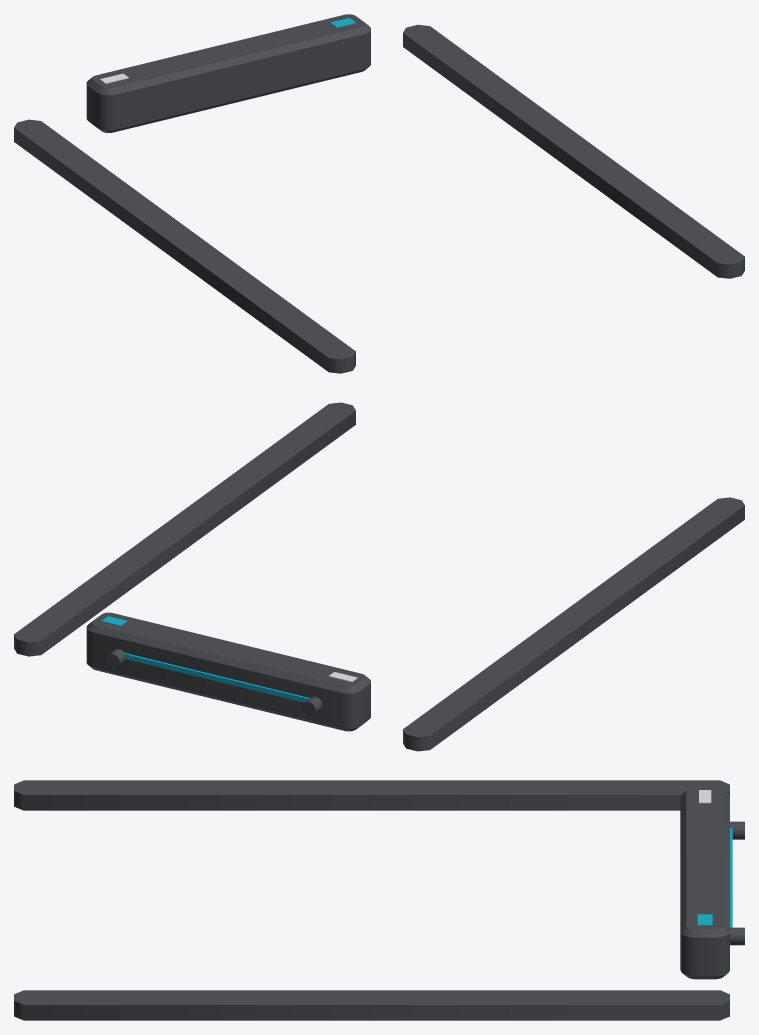
Rendered from c1_mount.obj.
3 renders of one model, top to bottom at view 1: azimuth 30°, elevation 25°; view 2: azimuth 150°, elevation 25°; view 3: azimuth 270°, elevation 25°, orthographic. The views are drawn at different scales.
Visible parts, largest first — view 1: c1_mount; view 2: c1_mount; view 3: c1_mount.
Boxes of the visible parts, x1,y1,x2,y2 form: c1_mount: (14, 14, 744, 373); c1_mount: (14, 402, 744, 751); c1_mount: (14, 780, 744, 1020).
Size of the model in its own units: 1.07 by 0.112 by 1.47.
